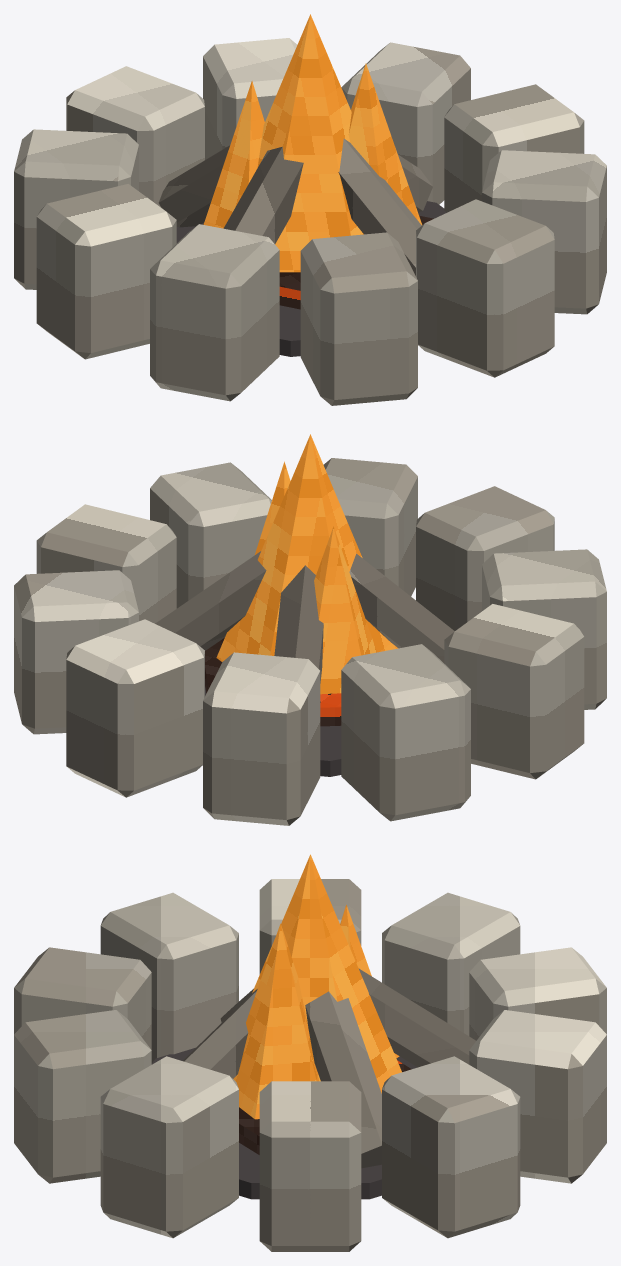
File: fire_pit.glb
3 views of the same model, one above another, from view 1: azimuth 30°, elevation 25°; view 2: azimuth 150°, elevation 25°; view 3: azimuth 270°, elevation 25° (orthographic).
Parts seen in each view (by area): view 1: body; view 2: body; view 3: body.
Boxes of the visible parts, x1=… form: body: x1=14, y1=14, x2=606, y2=405; body: x1=14, y1=434, x2=606, y2=825; body: x1=14, y1=854, x2=606, y2=1251.
Bounding box in the file's own units: 1 × 0.51 × 0.9912.
5 materials, 4 textured.
